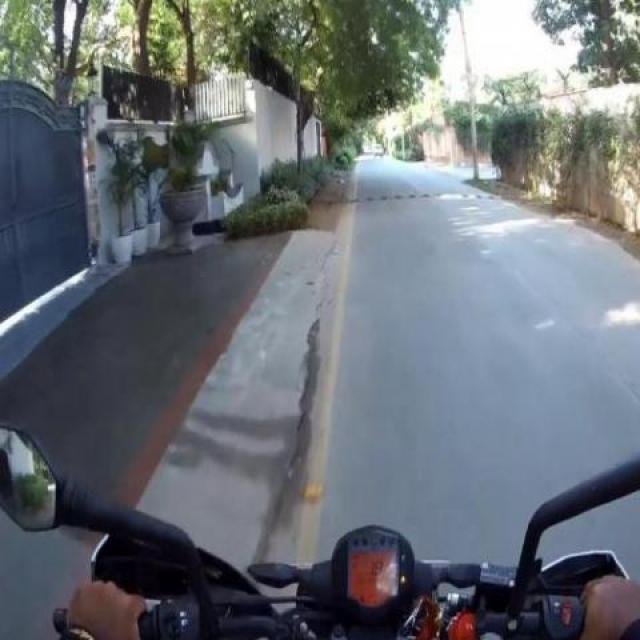Speed Bump: (339, 192, 502, 202)
